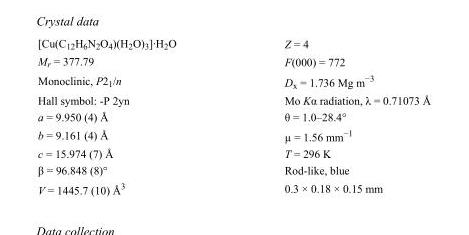table: (37, 36, 429, 195)
table column: (229, 36, 429, 195), (37, 36, 229, 195)
table row: (37, 70, 429, 91), (37, 125, 429, 144), (37, 52, 429, 70), (37, 91, 429, 108), (37, 108, 429, 125), (37, 144, 429, 161), (37, 161, 429, 178), (37, 178, 429, 195), (37, 36, 429, 52)
